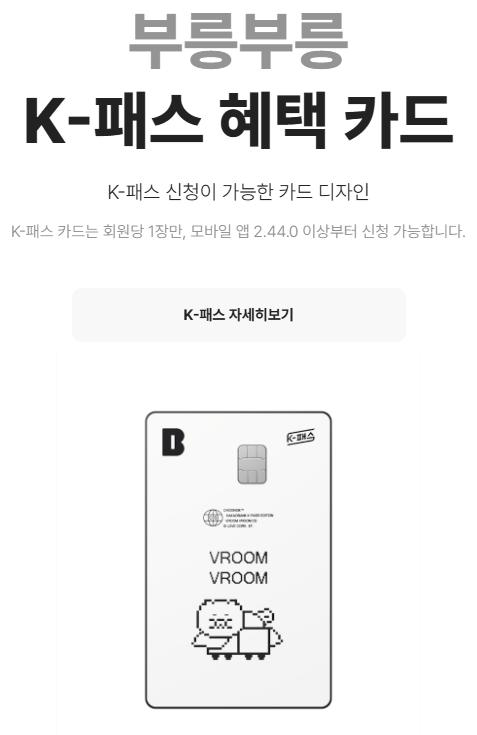button: (72, 288, 404, 343)
